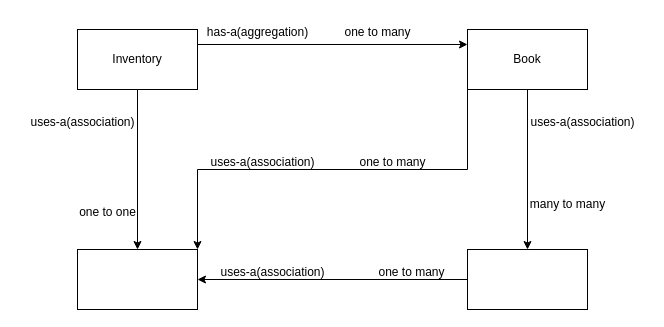
This 664x327 diagram has some shape labels left out. The box of each missing label's shape, as (x1, y1, x2, y2) in pixels:
LendBookToPatron: (76, 248, 198, 310)
Patron: (466, 248, 588, 310)
